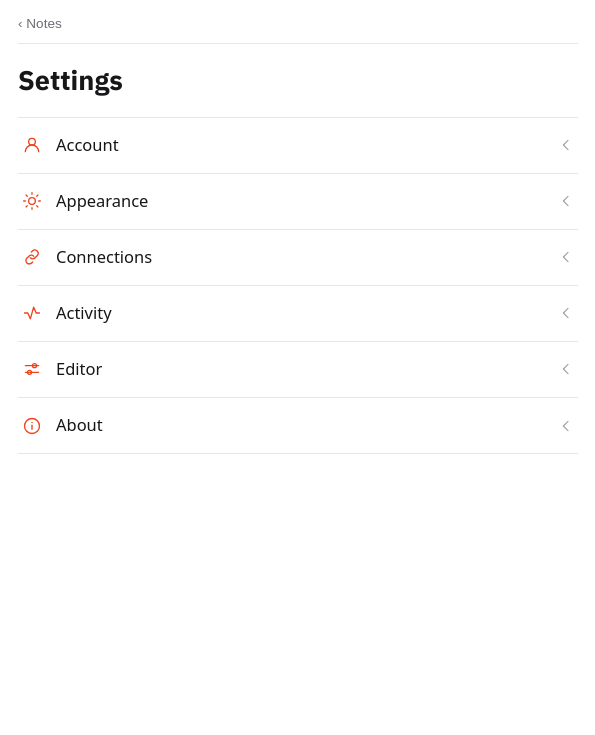
Scenario: ST-R8 — Mobile: /settings list → tap a row → sub-screen → back › renders the 6-row list, tapping Appearance pushes its sub-screen, back returns to the list
Check: the heading "Settings" is shown, box left=18, top=62, right=123, bottom=97
Check: the text "Account" is shown, box left=56, top=133, right=119, bottom=156
# Tap Appearance → its sub-screen (the Palette radiogroup is an Appearance-only marker).
Click the link "Appearance": coordinates (102, 200) left=18, top=174, right=578, bottom=230
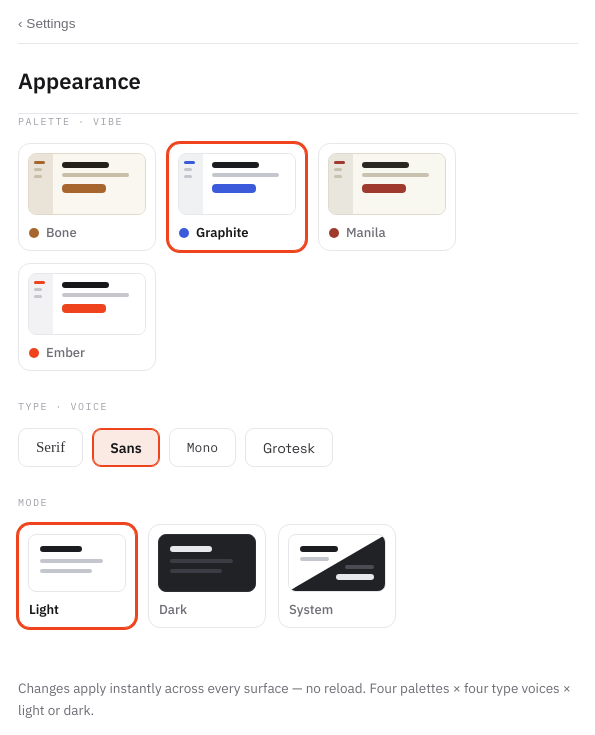
Check: the element "Palette" is shown, box left=18, top=115, right=456, bottom=371
Check: the link with class "settings__list-row" is gone
# Back "‹ Settings" pops to the list.
Click the button "‹ Settings": coordinates (47, 24) left=18, top=16, right=75, bottom=31
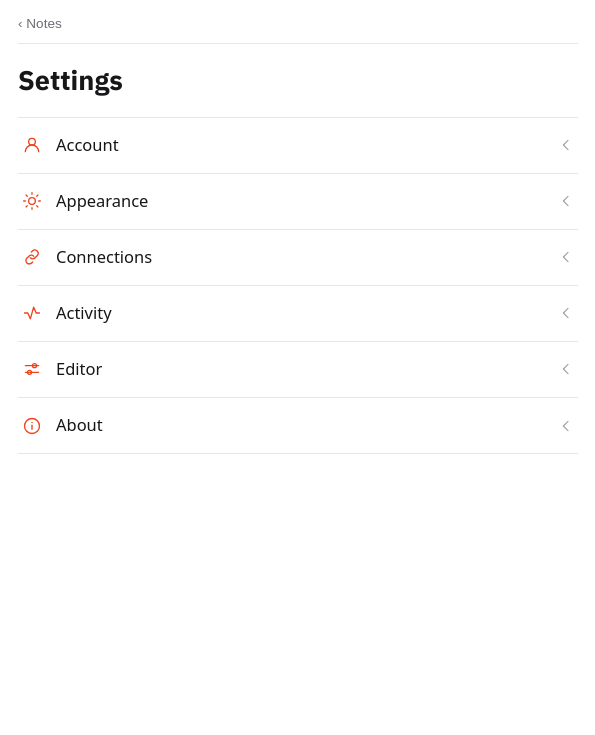
Check: the number of links with class "settings__list-row" is 6, box left=18, top=118, right=578, bottom=174; left=18, top=174, right=578, bottom=230; left=18, top=230, right=578, bottom=286; left=18, top=286, right=578, bottom=342; left=18, top=342, right=578, bottom=398; left=18, top=398, right=578, bottom=454
